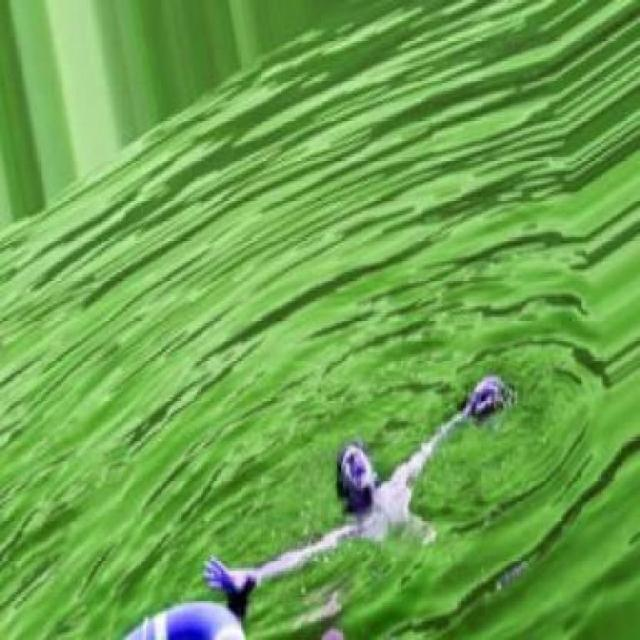drowning: (190, 329, 582, 640)
